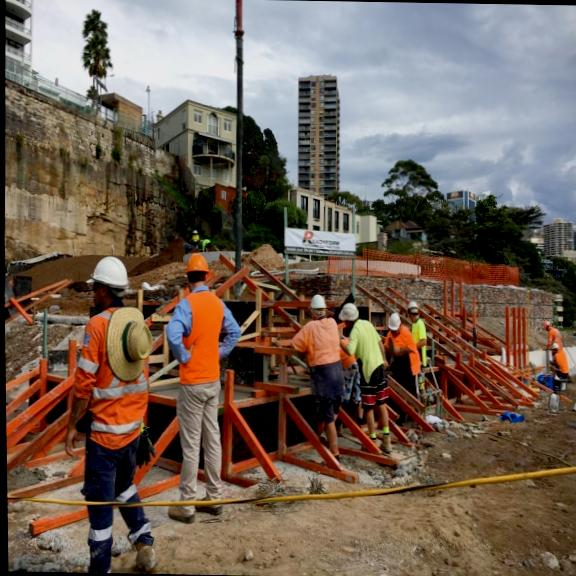no_safety_vest: (305, 318, 338, 370), (351, 318, 379, 370)
safety_vest: (80, 302, 155, 442)
